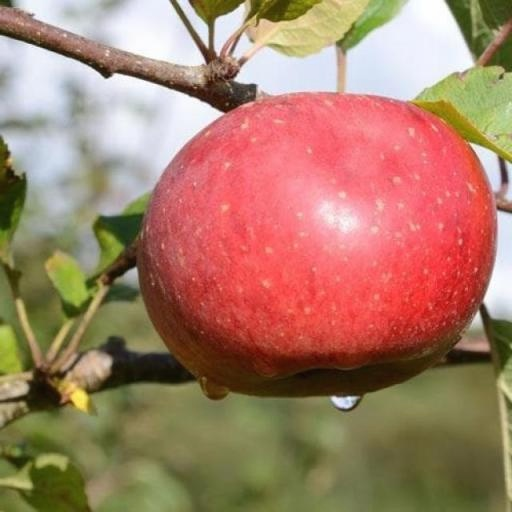fruit: (137, 94, 495, 396)
